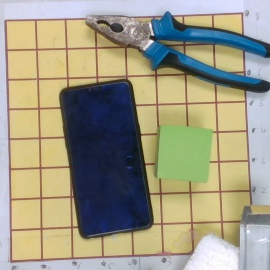phone: (55, 79, 155, 237)
